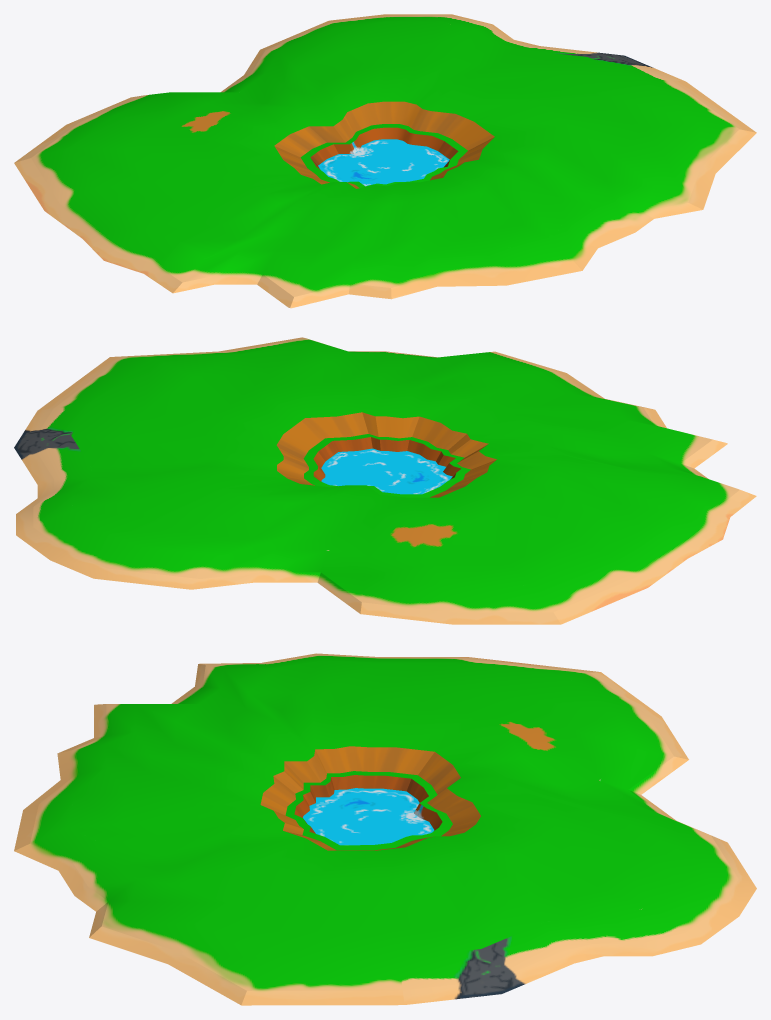
Rendered from IslaGE.fbx.
3 renders of one model, top to bottom at view 1: azimuth 30°, elevation 25°; view 2: azimuth 150°, elevation 25°; view 3: azimuth 270°, elevation 25°, orthographic. The views are drawn at different scales.
Visible parts, largest first — view 1: Isla; view 2: Isla; view 3: Isla.
Boxes of the visible parts, box(x1,y1,x2,y2) form: Isla: box(14, 14, 756, 308); Isla: box(14, 337, 756, 624); Isla: box(14, 653, 756, 1005).
Bounding box in the file's own units: 5187 × 228 × 4627.
